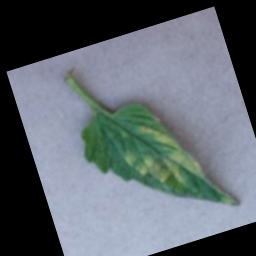Leaf_Mold: (115, 111, 204, 199)
